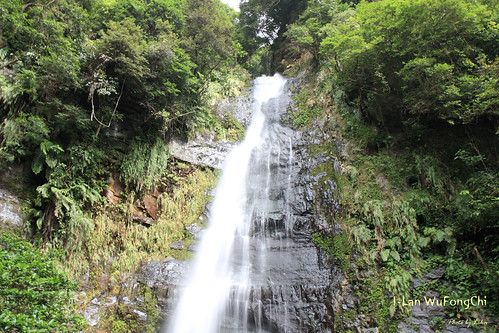wufengciWaterfall: (169, 67, 331, 333)
